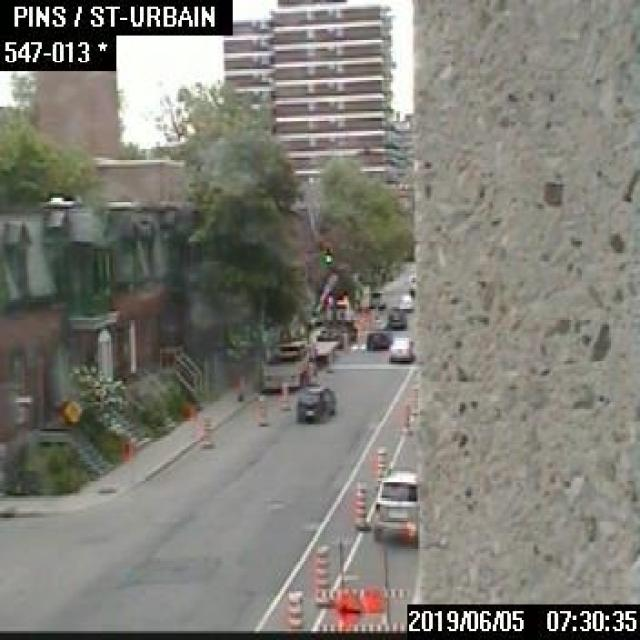construction: (309, 540, 404, 631), (284, 587, 304, 631), (351, 480, 367, 531), (118, 440, 138, 480), (373, 444, 387, 484), (198, 414, 211, 444), (256, 398, 264, 424), (280, 384, 287, 406)
vehicle: (260, 296, 356, 388), (371, 466, 417, 542), (295, 385, 334, 422), (388, 335, 413, 360), (364, 328, 391, 348), (386, 304, 406, 328), (396, 292, 414, 309), (368, 289, 385, 307)
